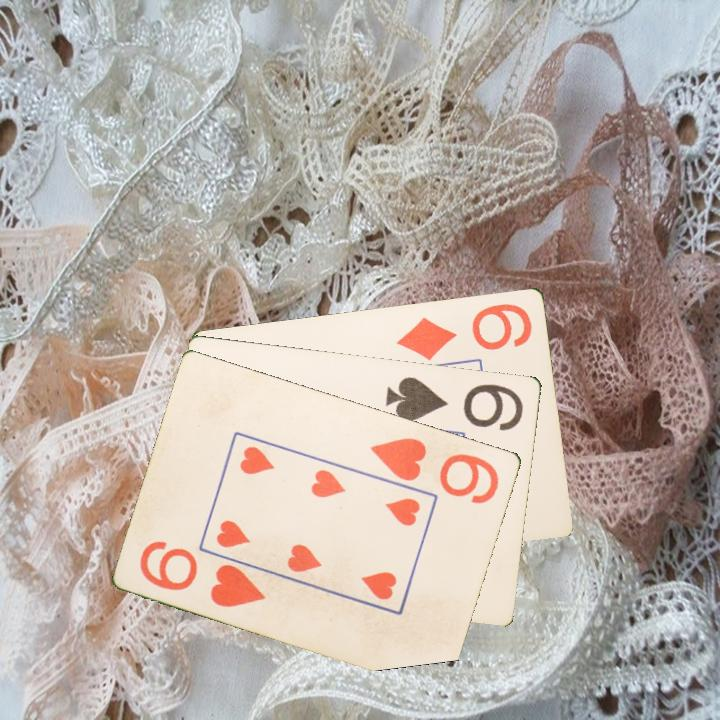6d: (393, 299, 535, 363)
6h: (367, 433, 503, 507), (136, 537, 269, 611)
6s: (382, 373, 527, 433)
